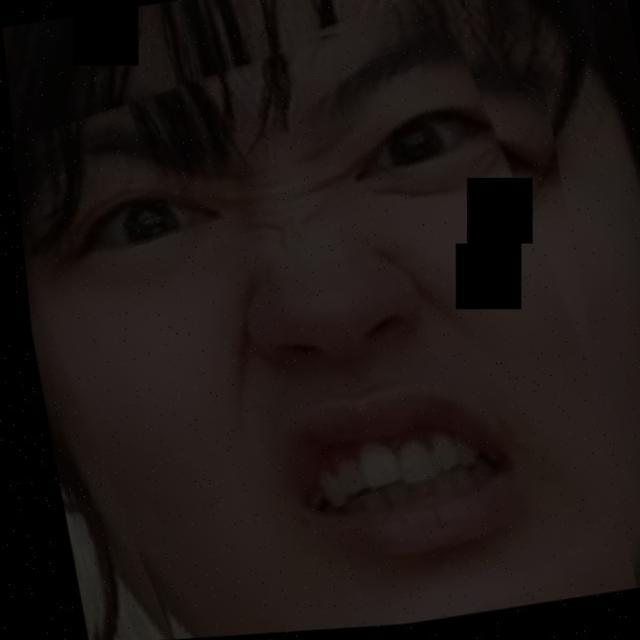Angry: (29, 56, 640, 624)
